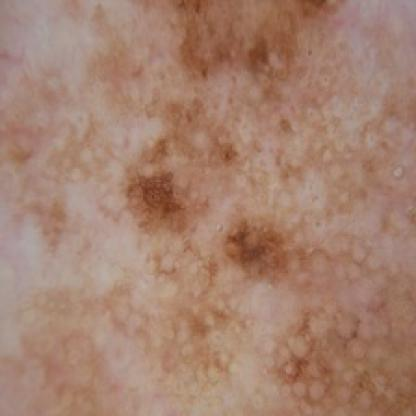malignant: (106, 9, 360, 282)
